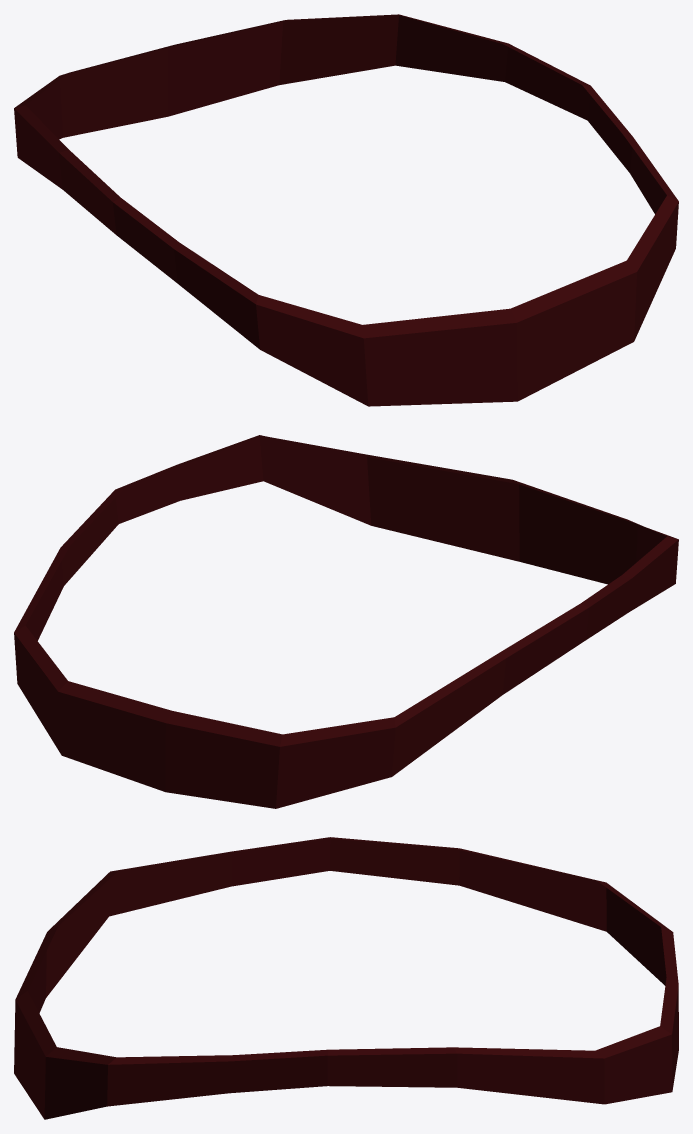
File: Red.obj
3 views of the same model, one above another, from view 1: azimuth 30°, elevation 25°; view 2: azimuth 150°, elevation 25°; view 3: azimuth 270°, elevation 25° (orthographic). The views are drawn at different scales.
Bounding box in the file's own units: 0.1872 × 0.0518 × 0.2397.
